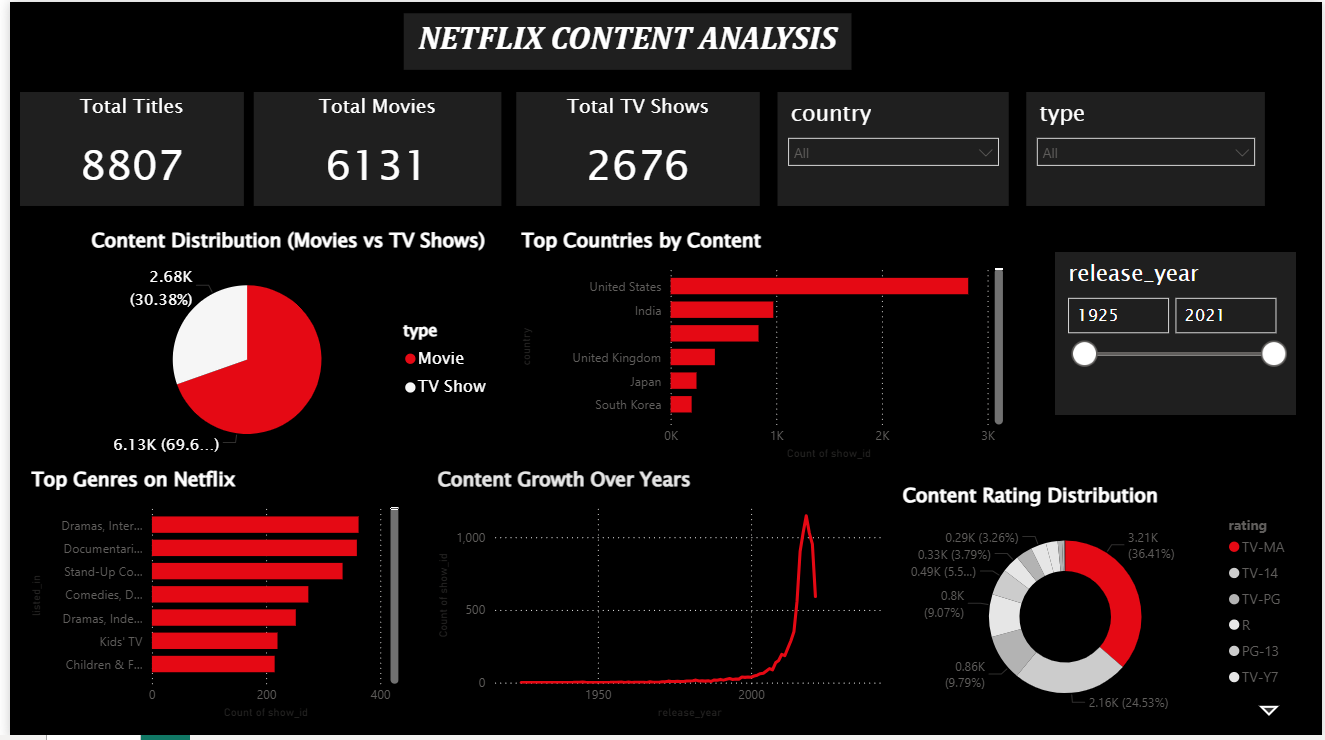

The page's visual inventory and layout, read from the dashboard file:
{"tool":"powerbi","page":{"name":"Page 1","canvas":[1280,720],"ordinal":0},"visuals":[{"type":"card","title":"Total Titles","fields":{"Values":["CountNonNull(netflix_titles.show_id)"]},"box":[9.8,87.8,218.3,111],"z":0},{"type":"card","title":"Total Movies","fields":{"Values":["CountNonNull(netflix_titles.show_id)"]},"box":[237.8,87.8,241.5,111],"z":1000},{"type":"card","title":"Total TV Shows","fields":{"Values":["CountNonNull(netflix_titles.show_id)"]},"box":[493.9,87.8,237.8,111],"z":2000},{"type":"pieChart","title":"Content Distribution (Movies vs TV Shows)","fields":{"Y":["CountNonNull(netflix_titles.show_id)"],"Category":["netflix_titles.type"]},"box":[74.3,218.6,404.3,232.9],"z":3000},{"type":"lineChart","title":"Content Growth Over Years","fields":{"Category":["netflix_titles.release_year"],"Y":["CountNonNull(netflix_titles.show_id)"]},"box":[412.5,451.4,448.6,252.8],"z":4000},{"type":"clusteredBarChart","title":"Top Countries by Content","fields":{"Y":["CountNonNull(netflix_titles.show_id)"],"Category":["netflix_titles.country"]},"box":[494.3,218.6,480,232.9],"z":5000},{"type":"donutChart","title":"Content Rating Distribution","fields":{"Category":["netflix_titles.rating"],"Y":["CountNonNull(netflix_titles.show_id)"]},"box":[865.7,467.1,405.7,237.1],"z":6000},{"type":"barChart","title":"Top Genres on Netflix","fields":{"Category":["netflix_titles.listed_in"],"Y":["CountNonNull(netflix_titles.show_id)"]},"box":[15.7,451.4,368.6,252.9],"z":7000},{"type":"slicer","fields":{"Values":["netflix_titles.type"]},"box":[991.5,87.8,232.9,111],"z":8000},{"type":"slicer","fields":{"Values":["netflix_titles.country"]},"box":[748.8,87.8,225.6,111],"z":9000},{"type":"slicer","fields":{"Values":["netflix_titles.release_year"]},"box":[1020,244.3,234.3,158.6],"z":10000},{"type":"textbox","box":[384.4,11.1,436.7,55.6],"z":11000}]}

Visuals, with their boxes in screenshot pixels (x1, y1, x2, y2), scaled from the page's 1280x720 canvas onto the 1325x740 screenshot:
"Total Titles" card: [10, 90, 236, 204]
"Total Movies" card: [246, 90, 496, 204]
"Total TV Shows" card: [511, 90, 757, 204]
"Content Distribution (Movies vs TV Shows)" pieChart: [77, 225, 495, 464]
"Content Growth Over Years" lineChart: [427, 464, 891, 724]
"Top Countries by Content" clusteredBarChart: [512, 225, 1009, 464]
"Content Rating Distribution" donutChart: [896, 480, 1316, 724]
"Top Genres on Netflix" barChart: [16, 464, 398, 724]
slicer - netflix_titles.type: [1026, 90, 1267, 204]
slicer - netflix_titles.country: [775, 90, 1009, 204]
slicer - netflix_titles.release_year: [1056, 251, 1298, 414]
textbox: [398, 11, 850, 69]
